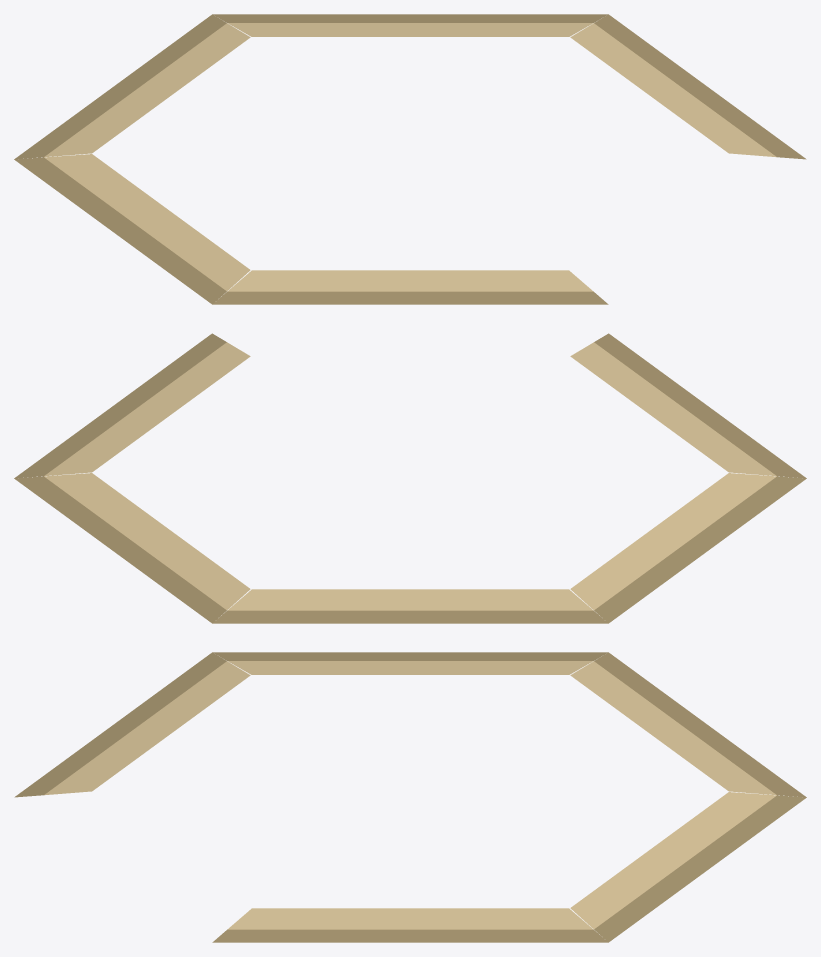
The model's file is SHORE_31.fbx.
3 views of the same model, one above another, from view 1: azimuth 30°, elevation 25°; view 2: azimuth 150°, elevation 25°; view 3: azimuth 270°, elevation 25° (orthographic).
Visible parts, largest first — view 1: Beach.035, Beach.034, Beach.031, Beach.033, Wet_sand.035, Beach.032, Wet_sand.034, Wet_sand.031, Wet_sand.033, Wet_sand.032; view 2: Beach.033, Beach.032, Beach.034, Beach.031, Beach.035, Wet_sand.033, Wet_sand.032, Wet_sand.034, Wet_sand.031, Wet_sand.035; view 3: Beach.031, Beach.032, Beach.033, Beach.035, Wet_sand.031, Beach.034, Wet_sand.032, Wet_sand.033, Wet_sand.035, Wet_sand.034.
Boxes of the visible parts, x1,y1,x2,y2 form: Beach.035: [227, 270, 593, 291]; Beach.034: [44, 154, 250, 290]; Beach.031: [570, 23, 776, 157]; Beach.033: [44, 23, 250, 157]; Wet_sand.035: [212, 291, 608, 304]; Beach.032: [227, 23, 593, 36]; Wet_sand.034: [14, 157, 226, 304]; Wet_sand.031: [594, 14, 806, 159]; Wet_sand.033: [14, 14, 226, 159]; Wet_sand.032: [212, 14, 608, 22]; Beach.033: [227, 589, 593, 610]; Beach.032: [44, 473, 250, 609]; Beach.034: [570, 473, 776, 609]; Beach.031: [44, 342, 250, 476]; Beach.035: [570, 342, 776, 476]; Wet_sand.033: [212, 610, 608, 623]; Wet_sand.032: [14, 476, 226, 623]; Wet_sand.034: [594, 476, 806, 623]; Wet_sand.031: [14, 333, 226, 478]; Wet_sand.035: [594, 333, 806, 478]; Beach.031: [227, 908, 593, 929]; Beach.032: [570, 792, 776, 928]; Beach.033: [570, 661, 776, 795]; Beach.035: [44, 661, 250, 795]; Wet_sand.031: [212, 929, 608, 942]; Beach.034: [227, 661, 593, 674]; Wet_sand.032: [594, 795, 806, 942]; Wet_sand.033: [594, 652, 806, 797]; Wet_sand.035: [14, 652, 226, 797]; Wet_sand.034: [212, 652, 608, 660].
Size of the model in its own units: 173 by 1.6 by 200.
